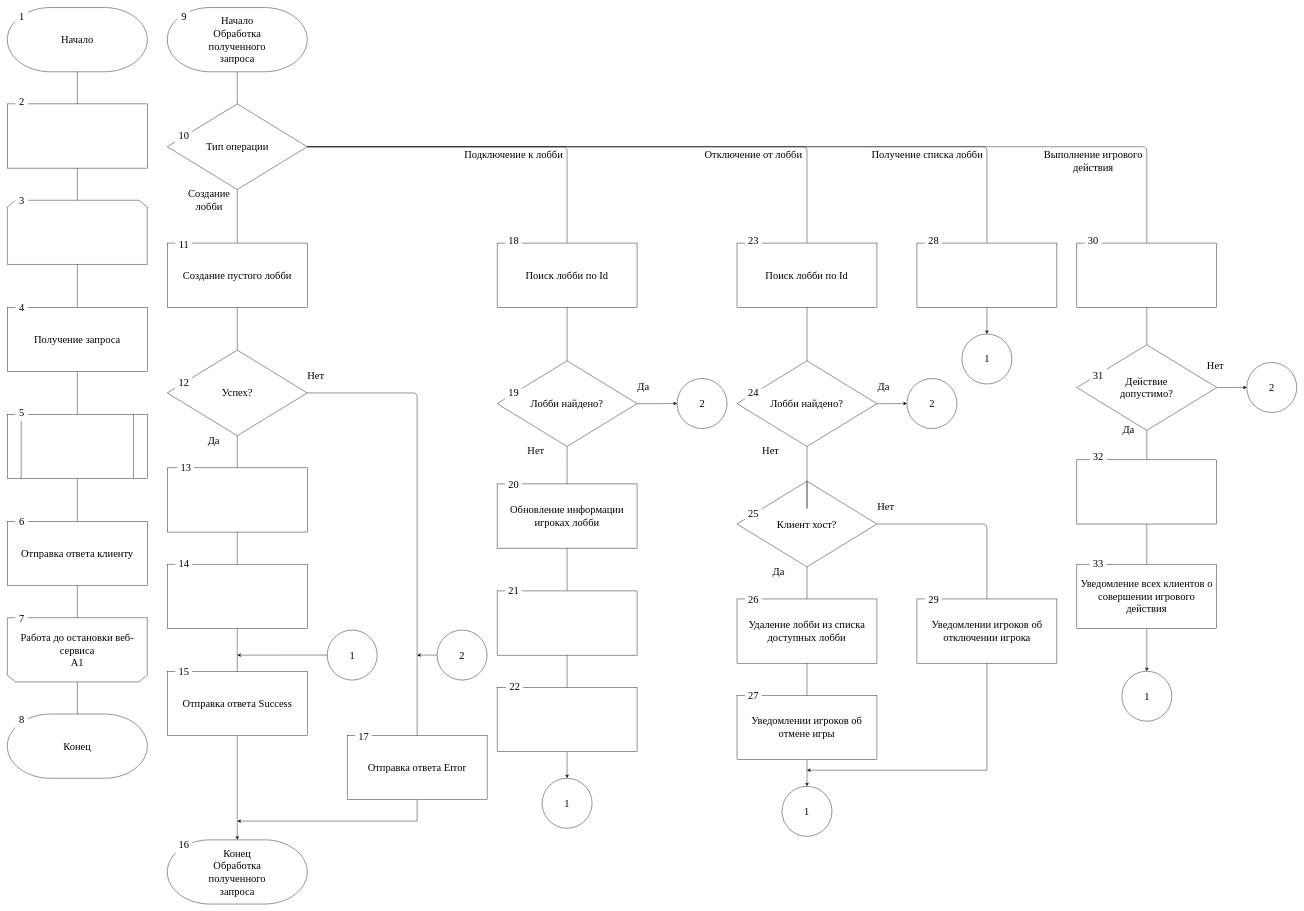
Image size: 1304x911. Some labels were removed from this diagram. The centre of each missing label's shape, as x and y in pixels:
А1 Работа веб-сервиса: the point at 77,232
Инициализация приложения: the point at 77,135
Обновление игрового состояния: the point at 1146,491
Обработка настроек лобби: the point at 237,499
Обработка полученного запроса: the point at 77,446
Отправка клиенту информации о текущем состоянии викторины: the point at 567,719
Проверка допустимости игрового действия: the point at 1146,275
Сохранение информации об организаторе: the point at 237,596
Уведомление игроков о новом подключении: the point at 567,623
Формирования краткого списка доступных лобби: the point at 987,275
